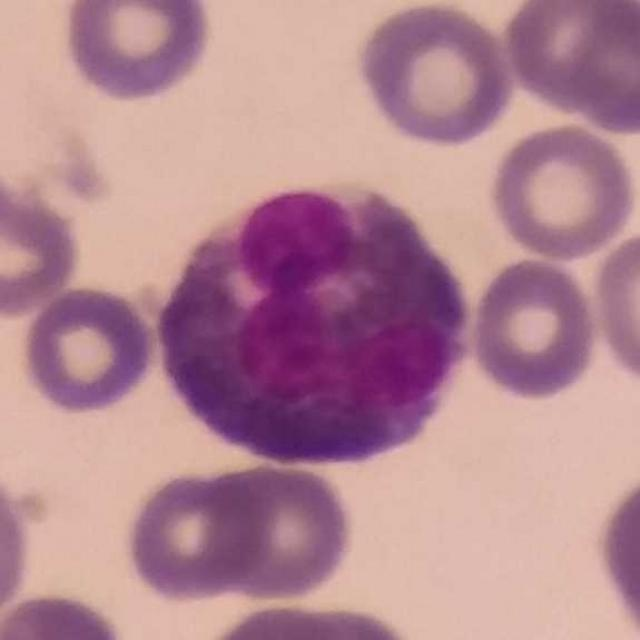Eosinophil: (145, 186, 474, 480)
RBC: (352, 0, 517, 150), (202, 458, 358, 604), (484, 119, 639, 263), (120, 462, 275, 604), (466, 254, 604, 404), (17, 280, 160, 418), (58, 0, 217, 107), (501, 0, 625, 112), (0, 164, 86, 320), (567, 4, 640, 138), (587, 225, 640, 393), (591, 464, 640, 639), (190, 599, 368, 640), (0, 587, 133, 640), (264, 600, 430, 640), (0, 461, 37, 634)
